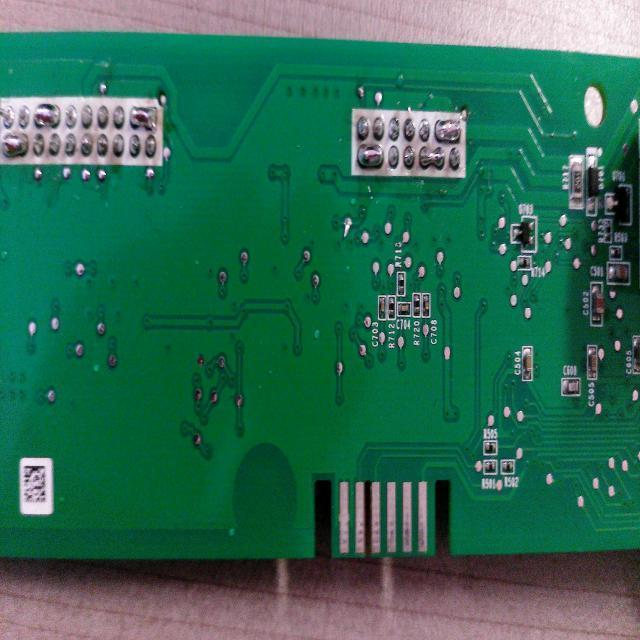Soldering shorted: (0, 129, 31, 164), (434, 110, 464, 144), (357, 140, 387, 171), (32, 100, 64, 128), (128, 102, 160, 130), (417, 147, 447, 173)
